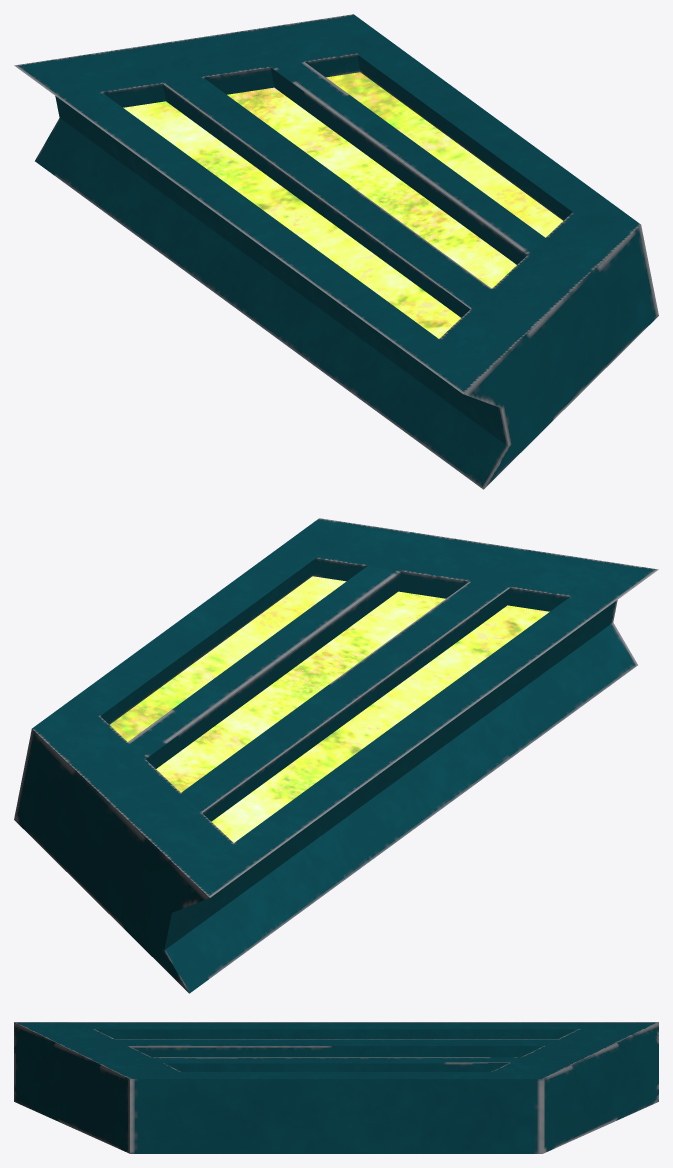
File: launcher.gltf
3 views of the same model, one above another, from view 1: azimuth 30°, elevation 25°; view 2: azimuth 150°, elevation 25°; view 3: azimuth 270°, elevation 25° (orthographic). The views are drawn at different scales.
Parts seen in each view (by area): view 1: Cube; view 2: Cube; view 3: Cube.
Boxes of the visible parts, x1,y1,x2,y2 form: Cube: [14, 14, 658, 489]; Cube: [14, 518, 658, 993]; Cube: [14, 1022, 658, 1153].
Bounding box in the file's own units: 0.278 × 0.1419 × 0.7808.
Materials: 1 (1 with a texture image).
